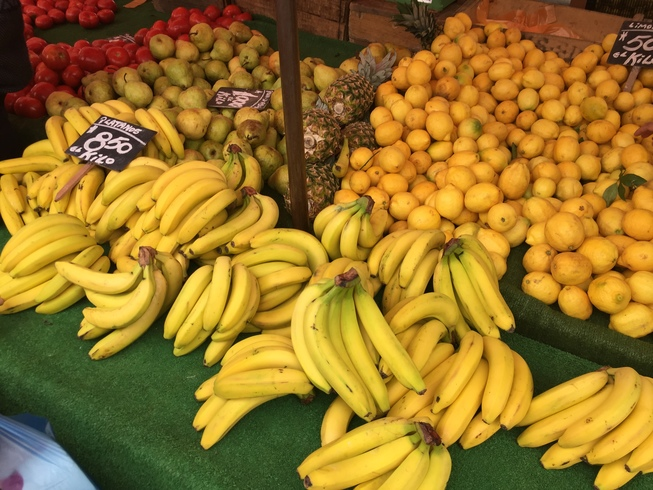precio: (62, 105, 167, 186), (207, 79, 282, 121), (609, 13, 653, 79)
